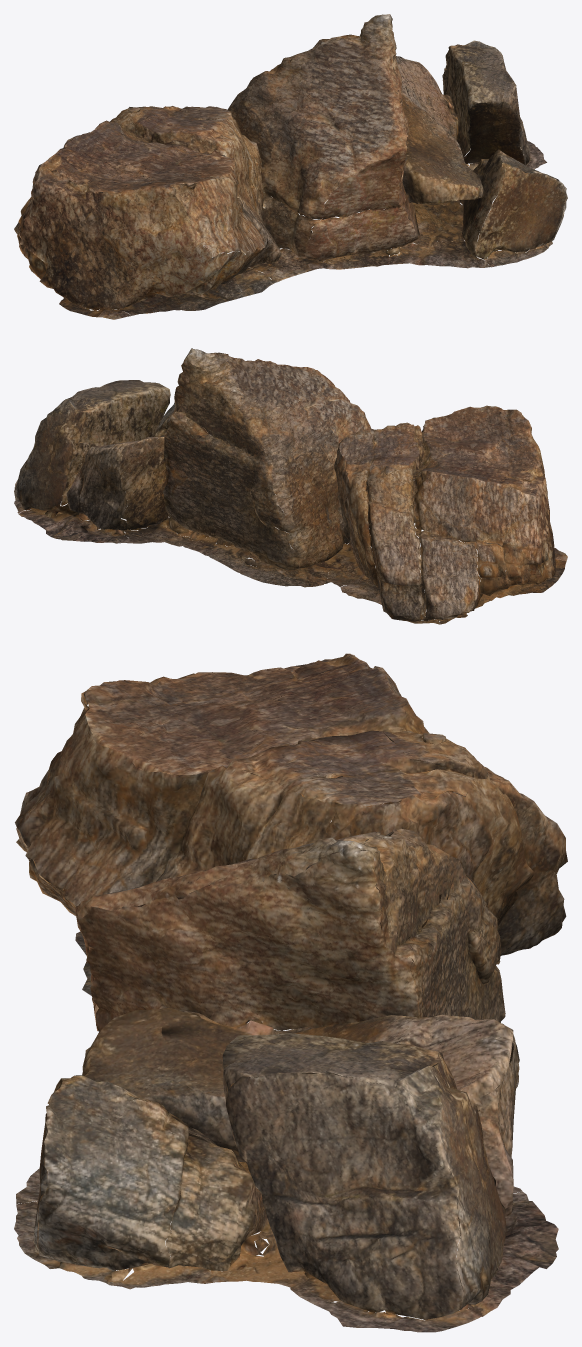
The model's file is namaqualand_boulder_02.fbx.
3 views of the same model, one above another, from view 1: azimuth 30°, elevation 25°; view 2: azimuth 150°, elevation 25°; view 3: azimuth 270°, elevation 25° (orthographic). The views are drawn at different scales.
Parts seen in each view (by area): view 1: namaqualand_boulder_02; view 2: namaqualand_boulder_02; view 3: namaqualand_boulder_02.
Part boxes in pixels (x1=…): namaqualand_boulder_02: x1=14, y1=14, x2=567, y2=319; namaqualand_boulder_02: x1=14, y1=348, x2=567, y2=624; namaqualand_boulder_02: x1=14, y1=653, x2=567, y2=1332.
Size of the model in its own units: 2.53 by 0.8812 by 1.23.
Materials: 1 (1 with a texture image).
